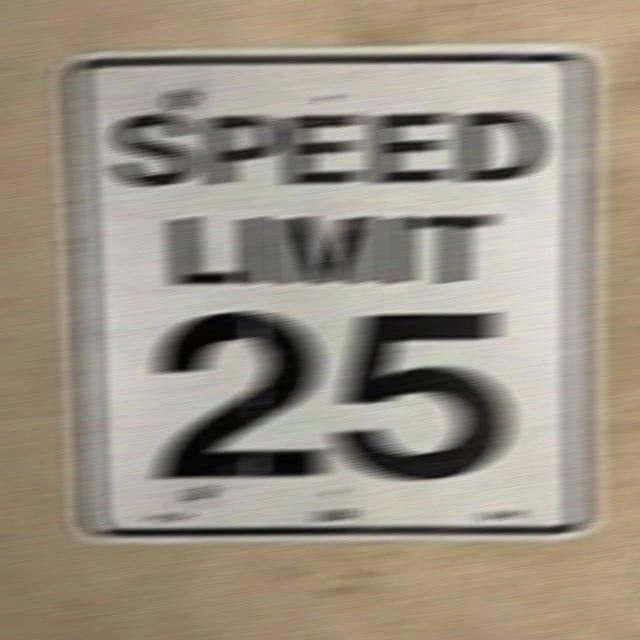speedLimit25: (50, 49, 603, 542)
